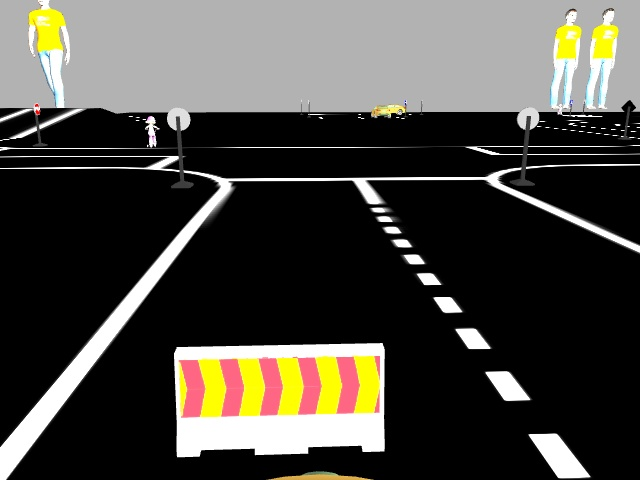ClosedRoadStand: (175, 348, 384, 451)
